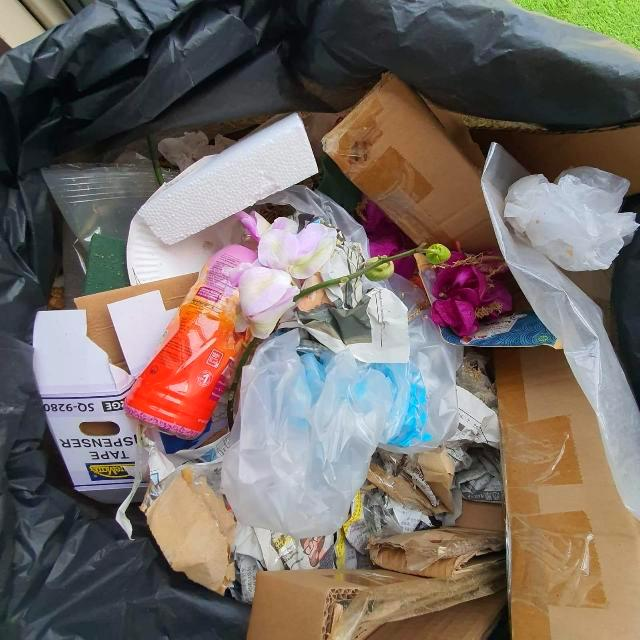cardboard: (497, 344, 639, 640), (33, 269, 199, 505), (322, 70, 505, 261), (248, 564, 507, 640), (143, 468, 235, 596), (124, 209, 244, 285), (371, 526, 509, 579)
paper: (230, 352, 505, 604)
plastic_bag: (258, 183, 465, 458), (219, 327, 395, 537), (42, 152, 159, 301), (502, 168, 640, 274), (227, 534, 247, 602)
plastic_bottle: (122, 226, 261, 439)
